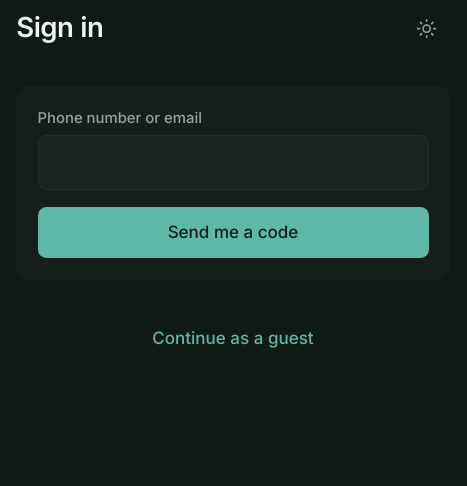
Test case: continue as a guest › shows an error and does not route when the guest session cannot start
Click the button "Continue as a guest" at (233, 339), box [16,314,450,365]
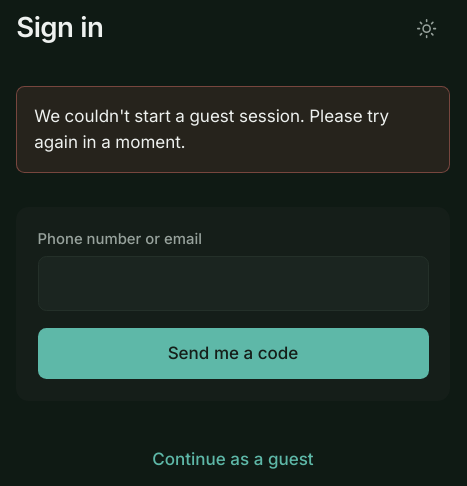
Expected: the message reads "We couldn't start a guest session. Please try again in a moment.", [34,106,389,152]
